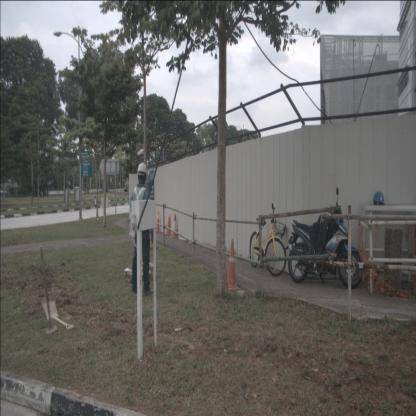movable_object-trafficcone: (225, 238, 239, 292), (164, 211, 172, 237), (170, 214, 178, 237), (155, 210, 160, 233)
vehicle-bicycle: (250, 202, 286, 276)
vehicle-motorcycle: (288, 187, 362, 289)
